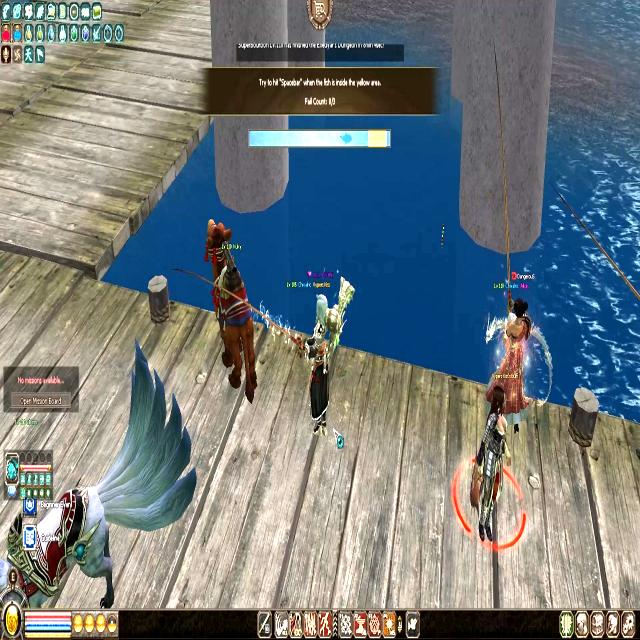fishes: (340, 132, 352, 144)
